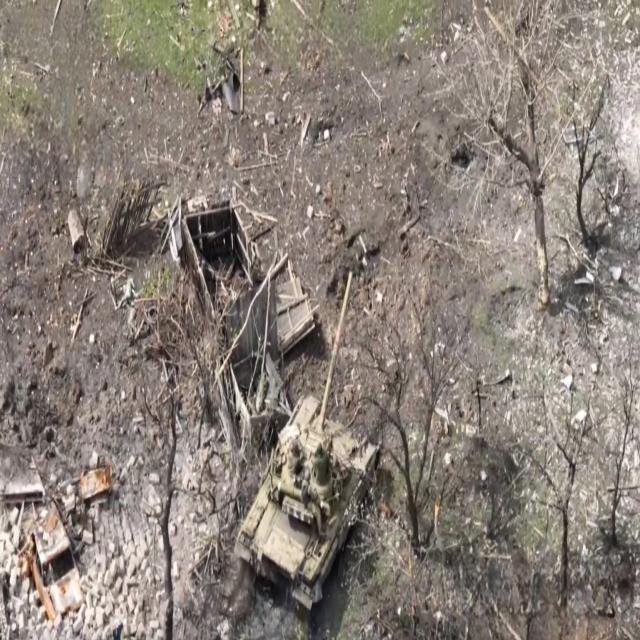MBT: (234, 271, 383, 618)
Vehicle: (21, 485, 85, 631)
